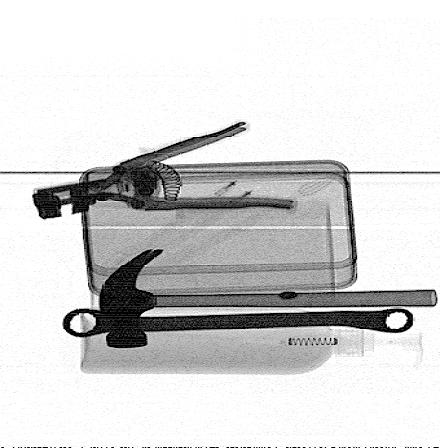Hammer: (98, 248, 438, 352)
Wrench: (35, 118, 300, 219), (60, 305, 419, 338)
